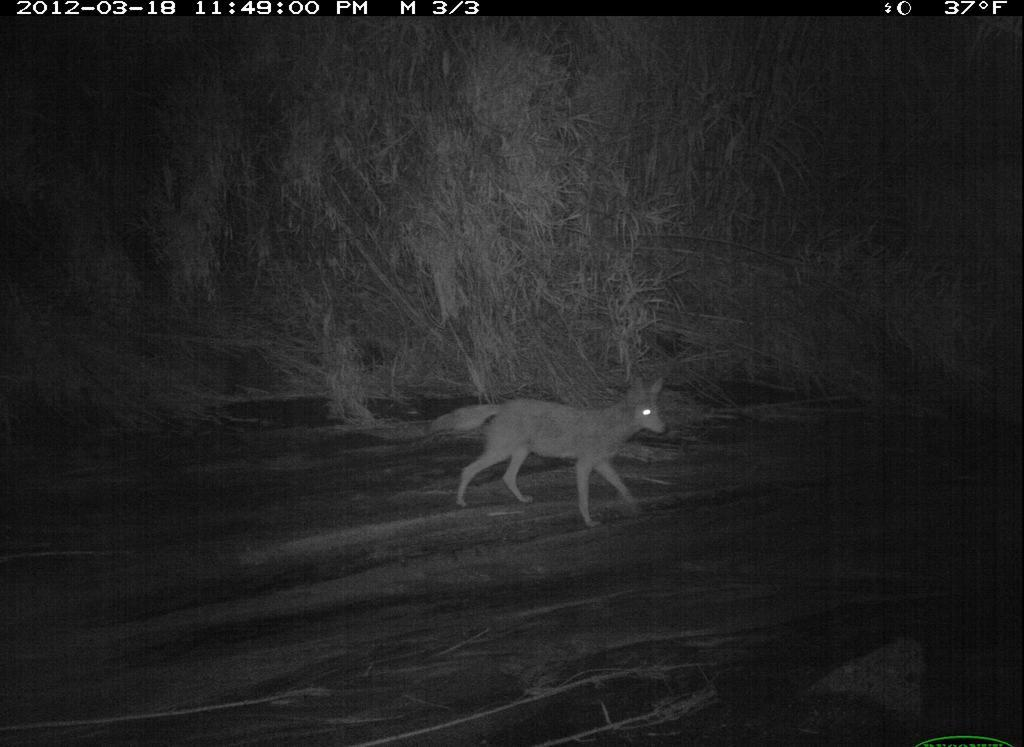coyote: (433, 360, 676, 534)
